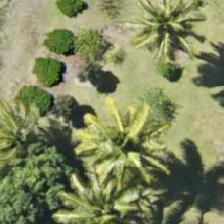coconut_tree: (80, 95, 170, 185), (119, 0, 209, 67), (58, 166, 148, 223)
